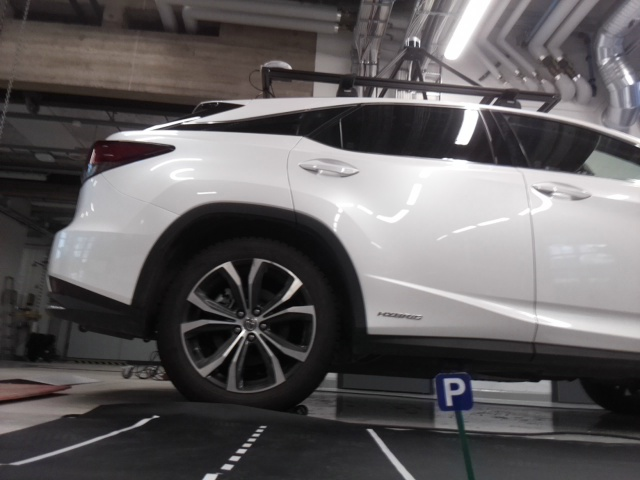Parking: (434, 372, 473, 412)
